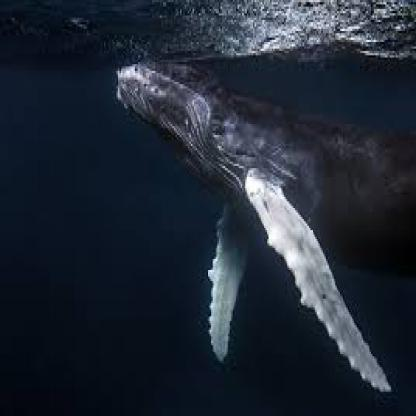sperm_whale: (81, 31, 414, 414)
